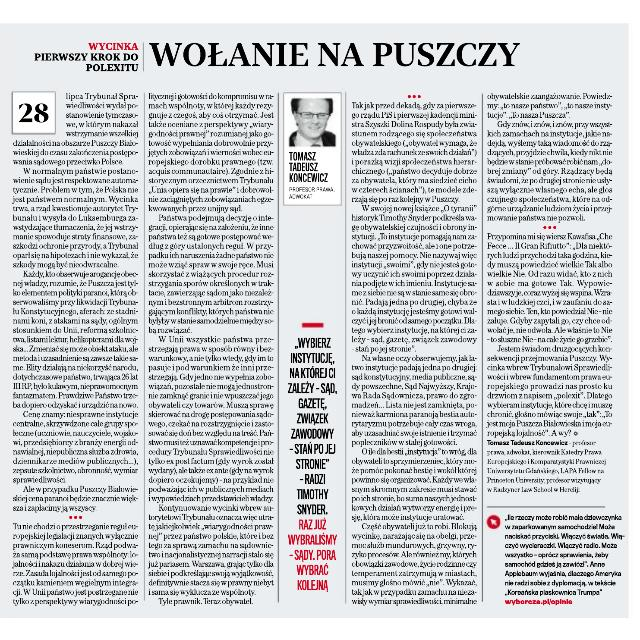author: (288, 150, 330, 184)
body: (8, 85, 142, 610), (147, 88, 277, 610), (349, 91, 479, 609), (484, 88, 618, 438), (282, 316, 342, 596)
title: (29, 37, 525, 77)
